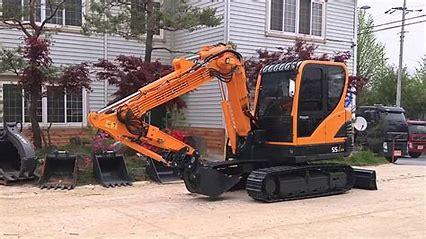C_E: (85, 40, 385, 206)
